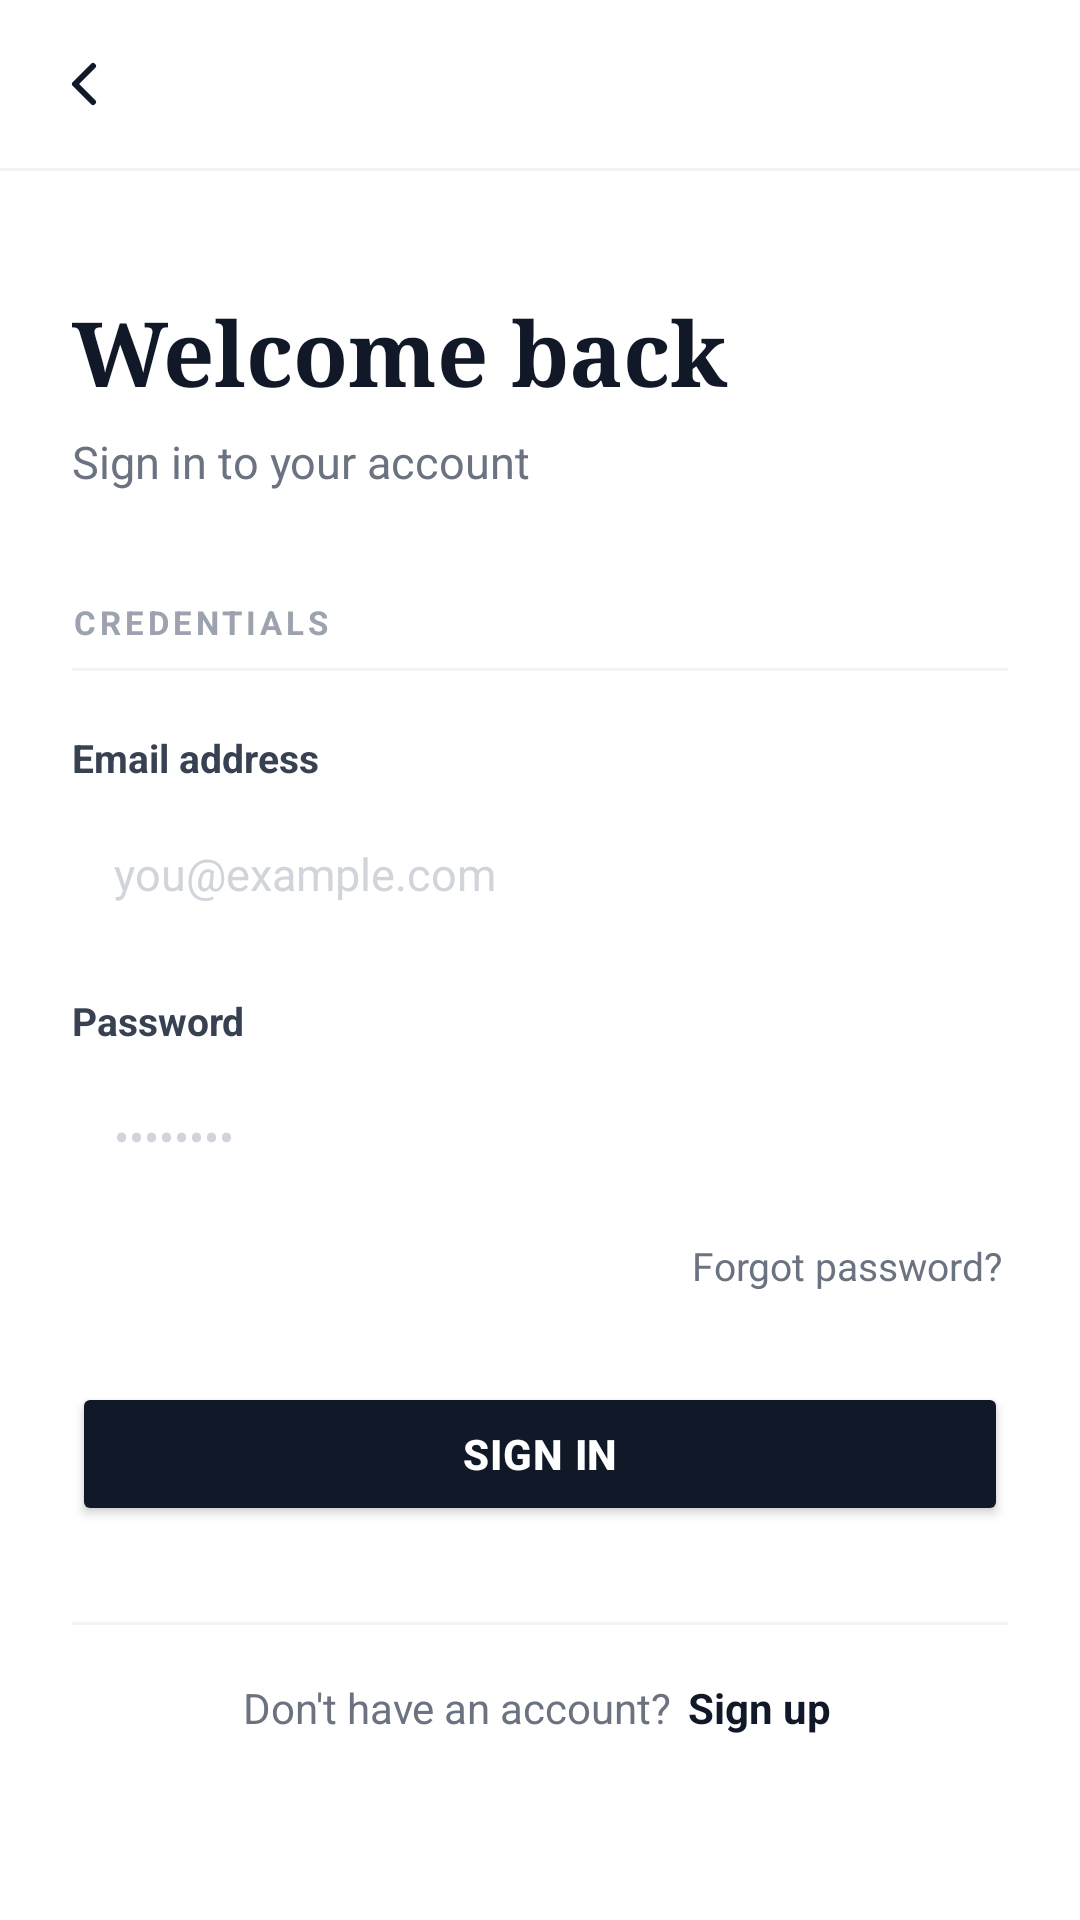

Icon bounding boxes for this 1080x1920 phone screenshot, format (x1, y1, x2, y2):
Go back: (72, 63, 96, 105)
